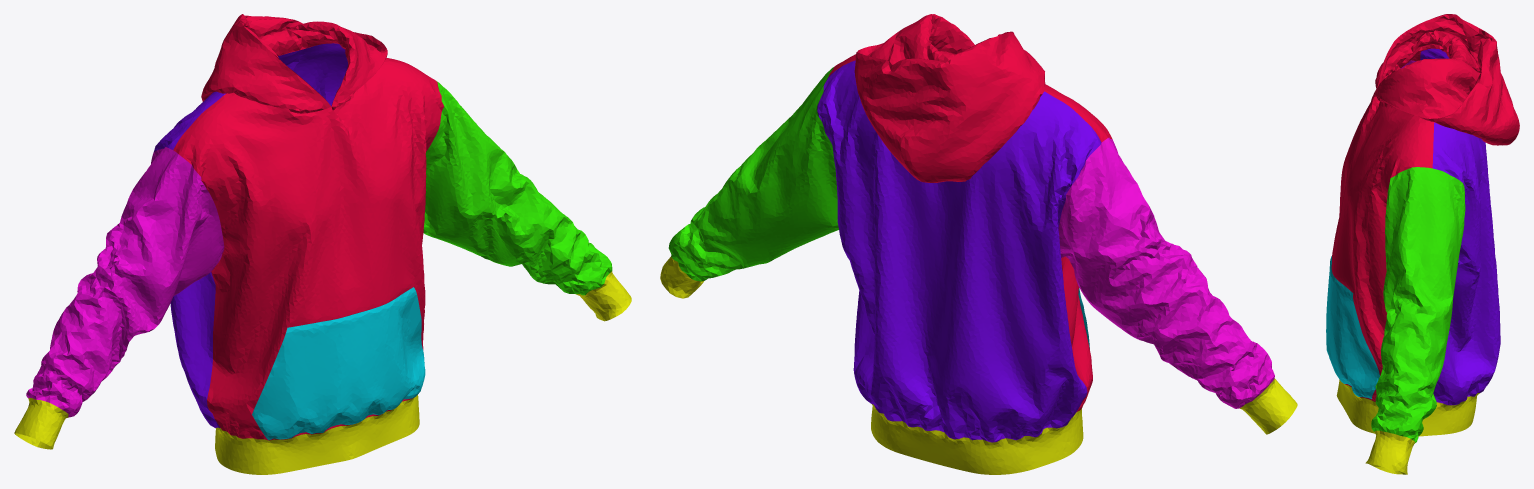
The model's file is hood.glb.
The picture shows the model from 3 angles, left to right: view 1: azimuth 30°, elevation 25°; view 2: azimuth 150°, elevation 25°; view 3: azimuth 270°, elevation 25°; orthographic projection. The views are drawn at different scales.
Visible parts, largest first — view 1: hood; view 2: hood; view 3: hood.
Part boxes in pixels (box(x1,y1,x2,y2)): hood: box(14, 14, 631, 474); hood: box(660, 14, 1297, 474); hood: box(1326, 14, 1519, 474).
Size of the model in its own units: 1.17 by 0.76 by 0.3575.
